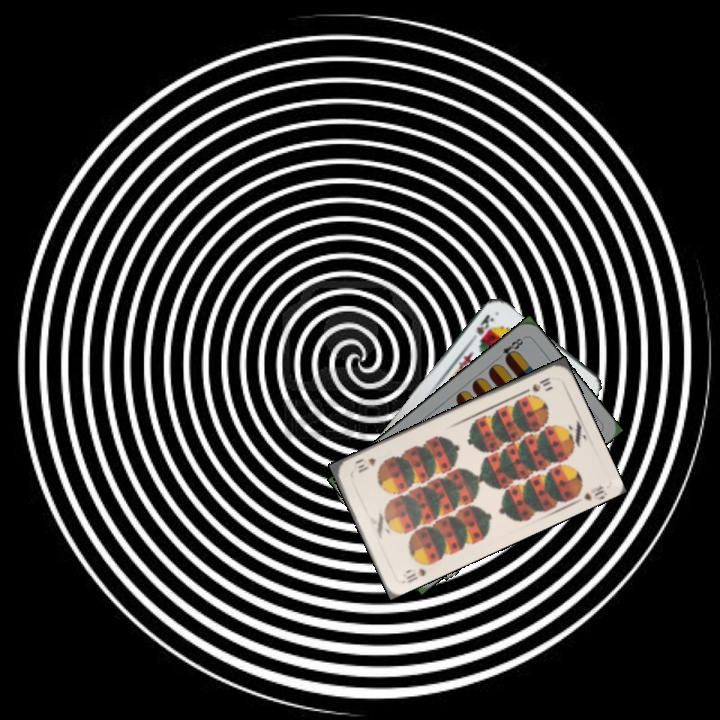E8: (498, 333, 527, 364)
S10: (519, 373, 553, 396), (402, 564, 429, 586)
SK: (472, 310, 497, 338)
